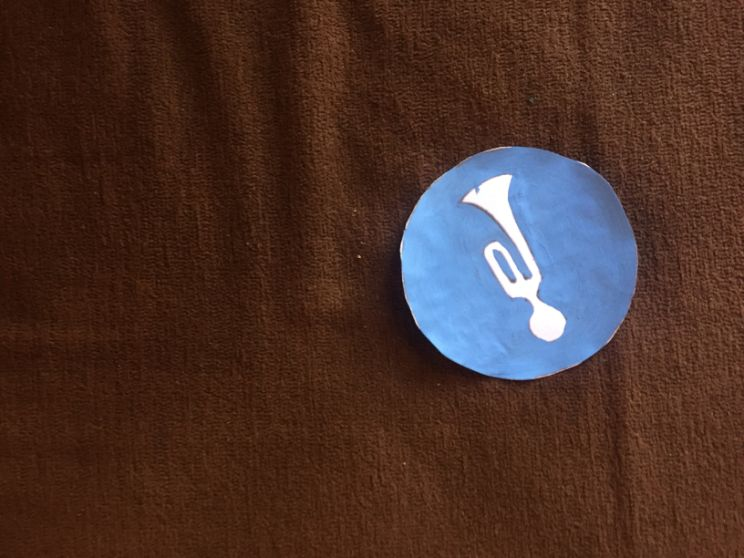blow-horn: (393, 146, 634, 383)
